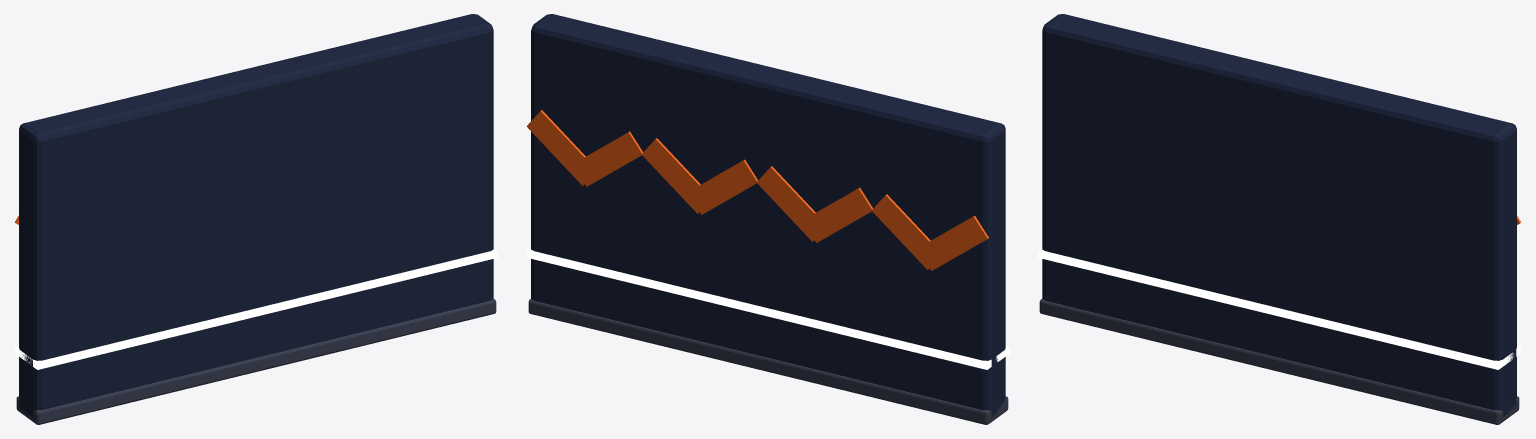
File: mur_orange.glb
3 renders of one model, left to right at view 1: azimuth 30°, elevation 25°; view 2: azimuth 150°, elevation 25°; view 3: azimuth 330°, elevation 25°, orthographic.
Parts seen in each view (by area): view 1: Mur, Plinthe, Bande; view 2: Mur, Plinthe, Bande, Chevron3_1, Chevron1_1, Chevron0_-1, Chevron2_1, Chevron1_-1, Chevron2_-1, Chevron0_1, Chevron3_-1; view 3: Mur, Plinthe, Bande.
Part boxes in pixels (<box>): Mur: <box>19,14,493,416</box>; Plinthe: <box>16,299,496,424</box>; Bande: <box>15,248,497,369</box>; Mur: <box>531,14,1005,416</box>; Plinthe: <box>528,299,1008,424</box>; Bande: <box>527,248,1009,369</box>; Chevron3_1: <box>526,110,596,185</box>; Chevron1_1: <box>756,166,826,241</box>; Chevron0_-1: <box>917,215,988,270</box>; Chevron2_1: <box>642,138,708,213</box>; Chevron1_-1: <box>803,187,872,242</box>; Chevron2_-1: <box>692,159,757,214</box>; Chevron0_1: <box>872,194,939,269</box>; Chevron3_-1: <box>582,131,642,186</box>; Mur: <box>1042,14,1516,416</box>; Plinthe: <box>1039,299,1519,424</box>; Bande: <box>1038,248,1520,369</box>.
Size of the model in its own units: 4.01 by 2.4 by 0.3375.
